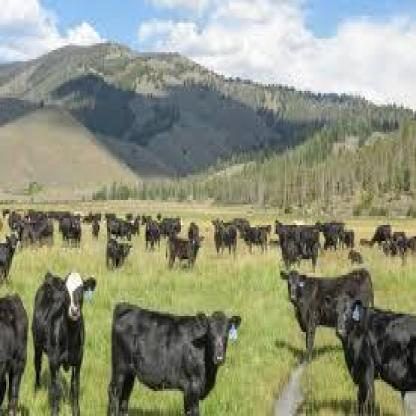cow: (107, 302, 243, 416), (324, 293, 416, 416), (33, 268, 95, 416), (279, 266, 375, 357), (0, 291, 30, 416), (166, 238, 200, 270), (240, 225, 274, 255), (213, 216, 238, 255), (55, 214, 85, 245), (104, 242, 133, 272), (320, 221, 346, 252), (21, 218, 45, 248), (143, 221, 163, 252), (335, 227, 358, 250), (157, 214, 181, 234), (370, 224, 390, 247), (42, 216, 56, 245), (90, 219, 103, 240), (186, 219, 201, 236)
